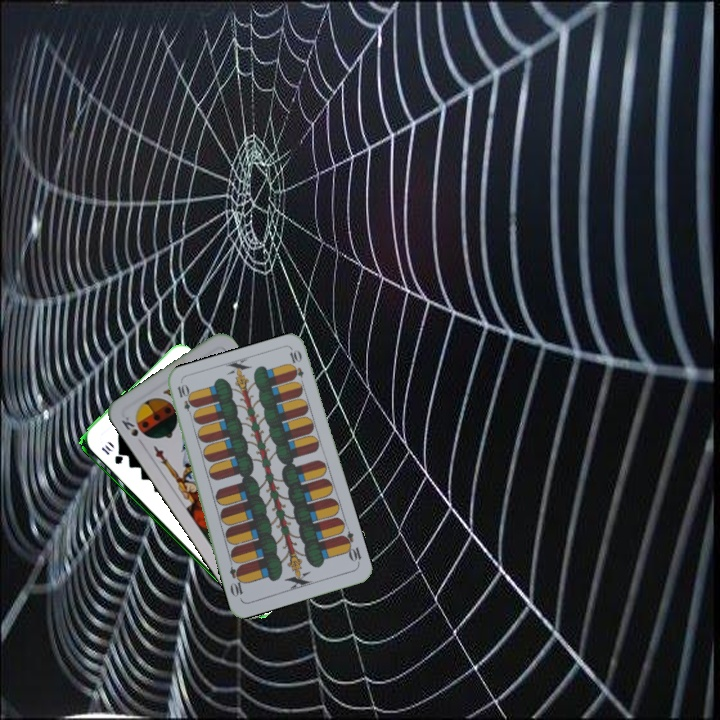E10: (337, 527, 364, 567), (173, 380, 196, 420)
G10: (97, 441, 125, 467)
SK: (117, 412, 149, 441)
